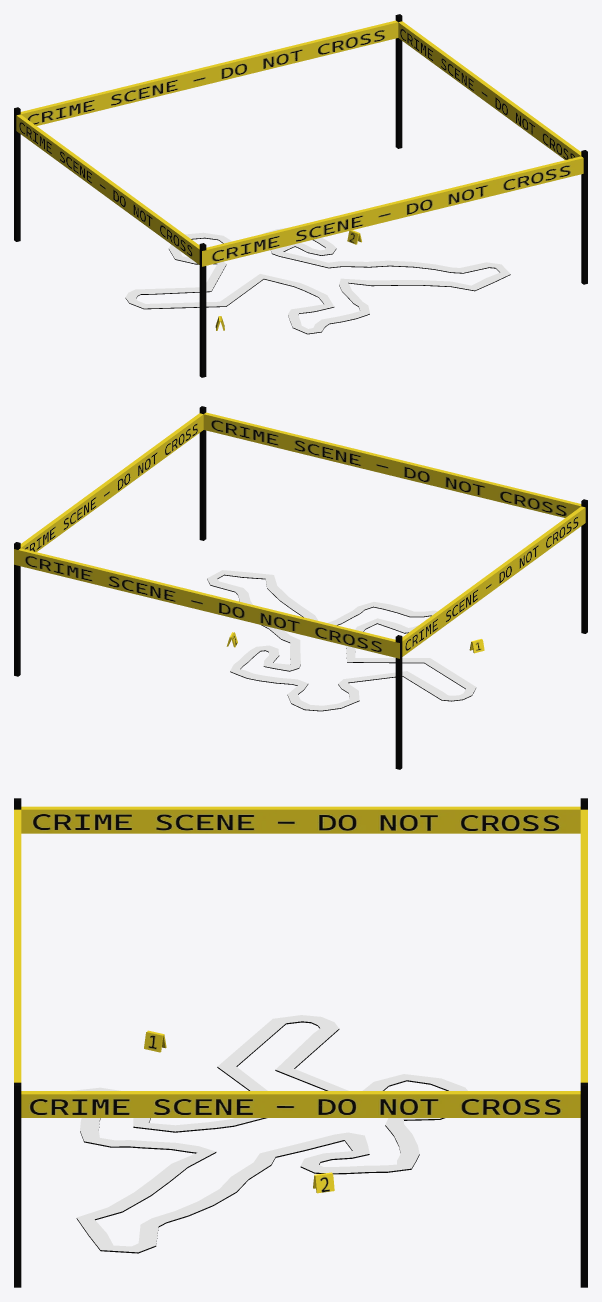
File: fallscene.opt.glb
3 views of the same model, one above another, from view 1: azimuth 30°, elevation 25°; view 2: azimuth 150°, elevation 25°; view 3: azimuth 270°, elevation 25° (orthographic). The views are drawn at different scales.
Visible parts, largest first — view 1: Object_4; view 2: Object_4; view 3: Object_4.
Boxes of the visible parts, x1=… form: Object_4: x1=14, y1=14, x2=587, y2=377; Object_4: x1=14, y1=406, x2=587, y2=769; Object_4: x1=14, y1=798, x2=587, y2=1287.
Size of the model in its own units: 3.67 by 1.2 by 3.09.
Materials: 1 (1 with a texture image).
